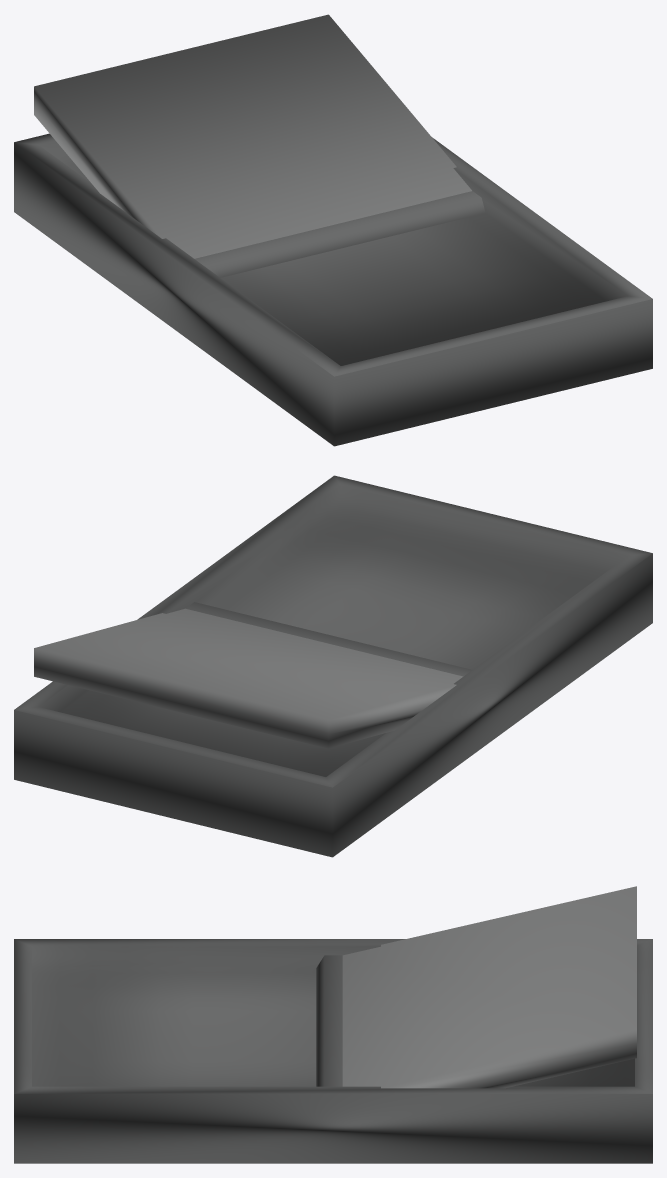
The model's file is switch.fbx.
The picture shows the model from 3 angles, top to bottom: view 1: azimuth 30°, elevation 25°; view 2: azimuth 150°, elevation 25°; view 3: azimuth 270°, elevation 25°; orthographic projection.
Visible parts, largest first — view 1: Cylinder.003; view 2: Cylinder.003; view 3: Cylinder.003.
Boxes of the visible parts, x1,y1,x2,y2 form: Cylinder.003: (14,14,652,446); Cylinder.003: (14,475,652,857); Cylinder.003: (14,886,652,1163).
Bounding box in the file's own units: 48.14 × 18.56 × 83.8.
1 material, 1 textured.
